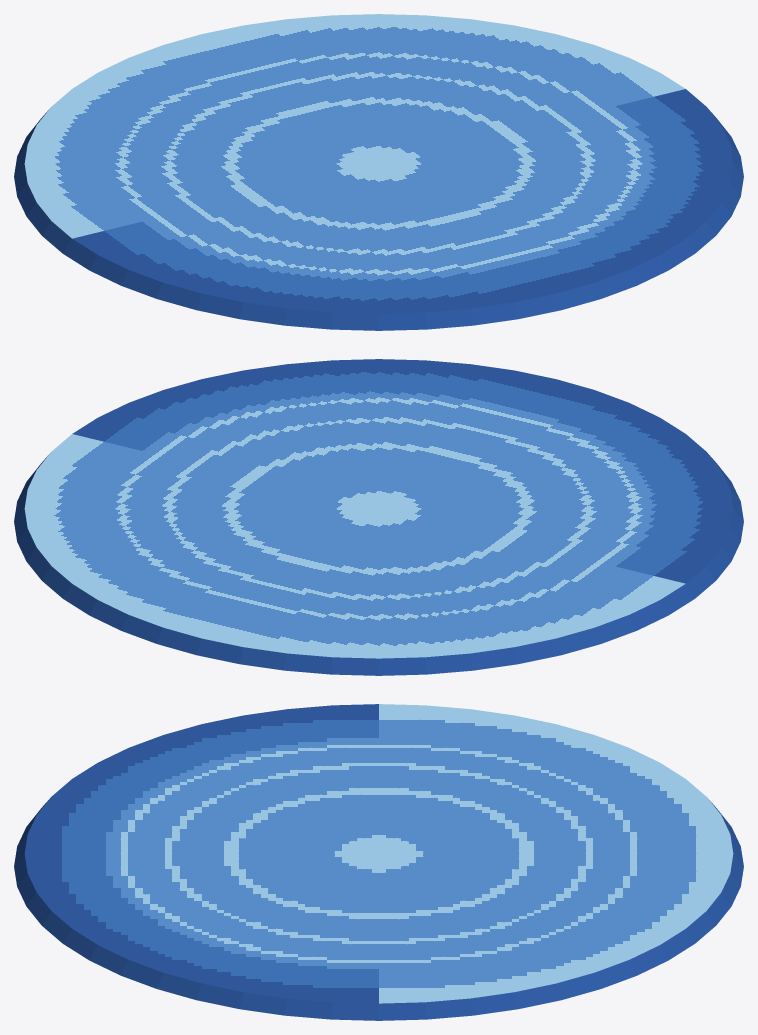
The model's file is platform_water.glb.
3 views of the same model, one above another, from view 1: azimuth 30°, elevation 25°; view 2: azimuth 150°, elevation 25°; view 3: azimuth 270°, elevation 25° (orthographic).
Parts seen in each view (by area): view 1: platform_water; view 2: platform_water; view 3: platform_water.
Part boxes in pixels (bbox=[...]): platform_water: bbox=[14, 14, 743, 330]; platform_water: bbox=[14, 359, 743, 675]; platform_water: bbox=[14, 704, 743, 1020].
Size of the model in its own units: 2.06 by 0.04 by 2.06.
2 materials, 1 textured.
